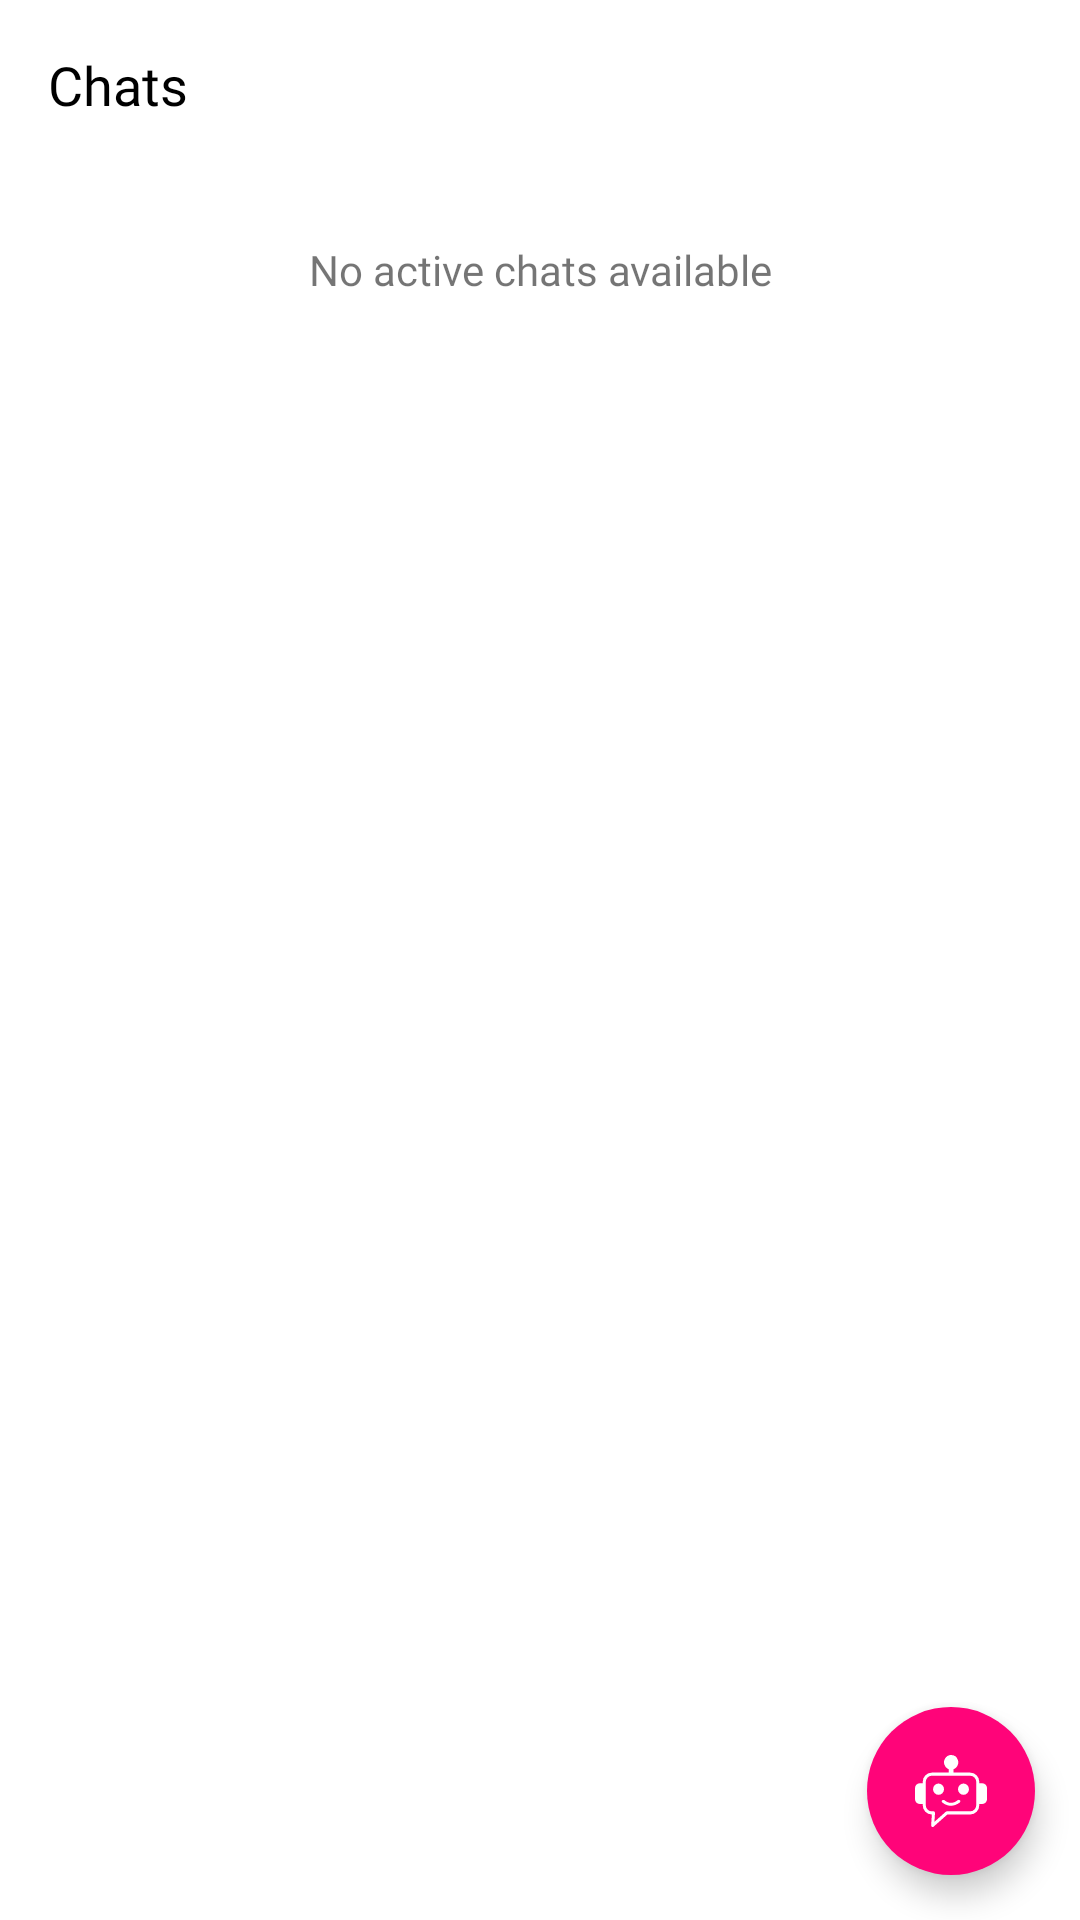

Where to tap for icons on this 1080w x 1920h app screen, as (x,y):
CHAT BOT: (951,1791)
